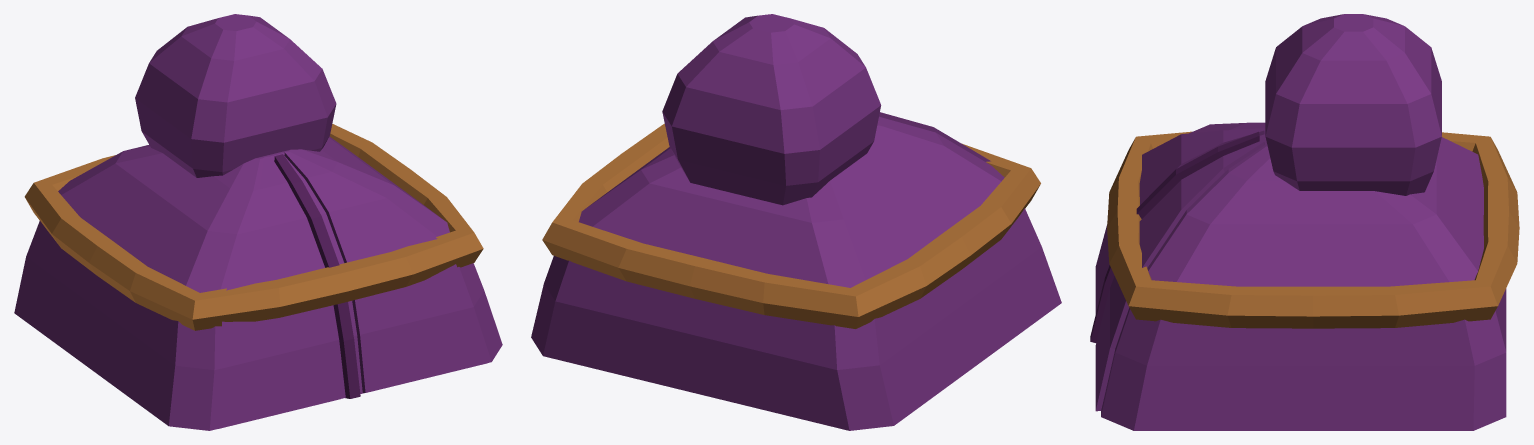
Rendered from hair_girl_halo_updo_01.glb.
The picture shows the model from 3 angles, left to right: view 1: azimuth 30°, elevation 25°; view 2: azimuth 150°, elevation 25°; view 3: azimuth 270°, elevation 25°; orthographic projection. The views are drawn at different scales.
Parts seen in each view (by area): view 1: HaloUpdo_Cap, HaloUpdo_Geometric_Bun, HaloUpdo_Faceted_Halo, HaloUpdo_CenterPart_R, HaloUpdo_CenterPart_L, HaloUpdo_CenterPart_Seam; view 2: HaloUpdo_Cap, HaloUpdo_Geometric_Bun, HaloUpdo_Faceted_Halo, HaloUpdo_CenterPart_L; view 3: HaloUpdo_Cap, HaloUpdo_Geometric_Bun, HaloUpdo_Faceted_Halo, HaloUpdo_CenterPart_R, HaloUpdo_CenterPart_L, HaloUpdo_CenterPart_Seam.
Part boxes in pixels (x1,y1,x2,y2): HaloUpdo_Cap: (14,136,502,430); HaloUpdo_Geometric_Bun: (135,14,336,177); HaloUpdo_Faceted_Halo: (24,124,483,330); HaloUpdo_CenterPart_R: (284,151,487,392); HaloUpdo_CenterPart_L: (218,156,340,428); HaloUpdo_CenterPart_Seam: (274,154,360,398); HaloUpdo_Cap: (531,116,1061,430); HaloUpdo_Geometric_Bun: (662,14,881,205); HaloUpdo_Faceted_Halo: (542,124,1040,328); HaloUpdo_CenterPart_L: (879,112,990,161); HaloUpdo_Cap: (1101,122,1506,430); HaloUpdo_Geometric_Bun: (1265,14,1441,195); HaloUpdo_Faceted_Halo: (1107,131,1519,328); HaloUpdo_CenterPart_R: (1095,139,1264,411); HaloUpdo_CenterPart_L: (1095,128,1264,313); HaloUpdo_CenterPart_Seam: (1090,131,1259,342).
Size of the model in its own units: 0.322 by 0.2697 by 0.326.
